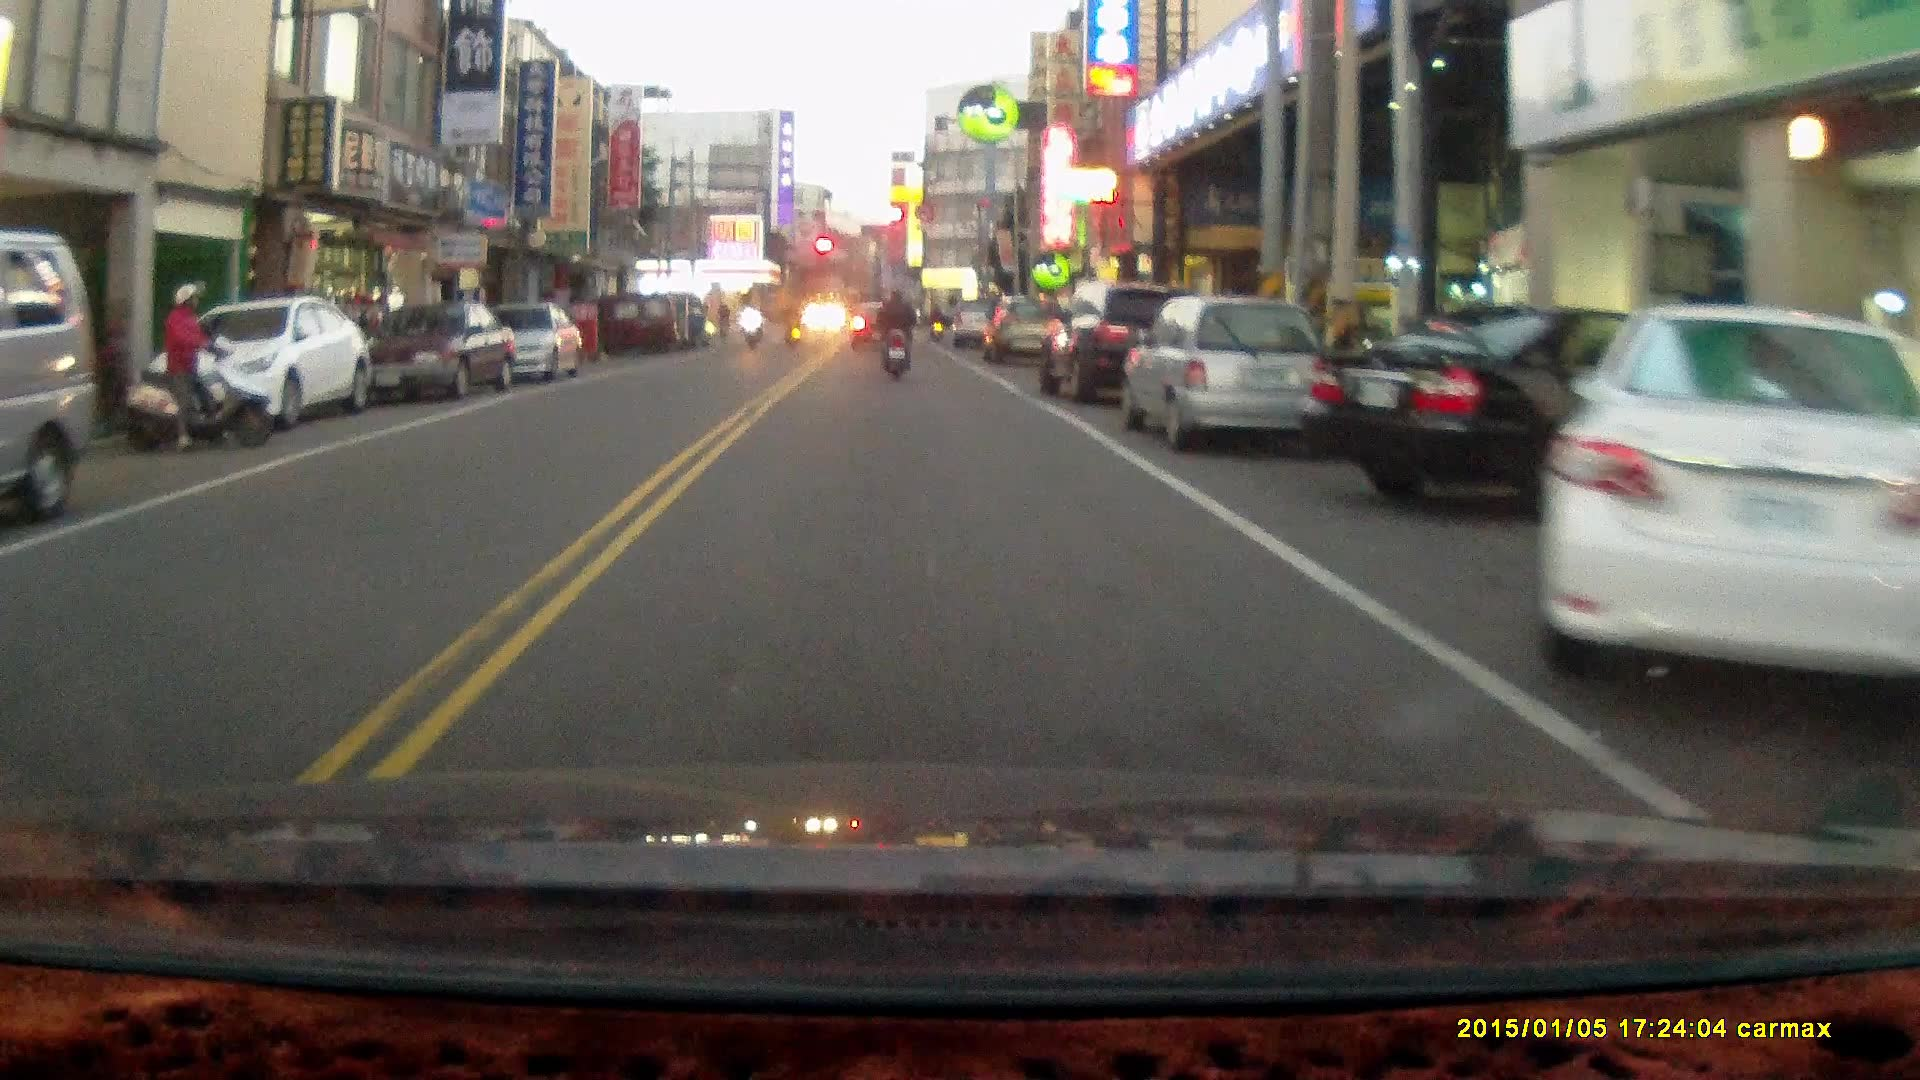rider: (112, 277, 267, 449), (873, 281, 916, 381), (738, 299, 764, 349)
vehicle: (1555, 299, 1920, 683), (1307, 300, 1843, 520), (1127, 293, 1336, 440), (145, 291, 368, 426), (1, 230, 99, 522), (1037, 284, 1212, 406), (351, 299, 513, 398), (460, 296, 585, 382)
